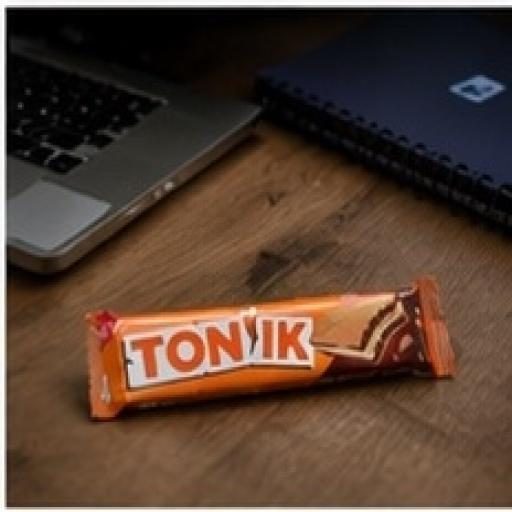tonik: (42, 251, 472, 432)
